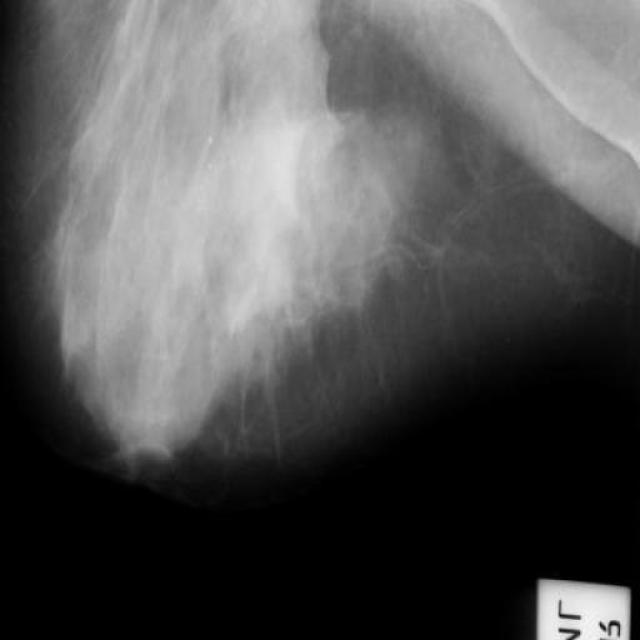tumor: (210, 277, 260, 358)
